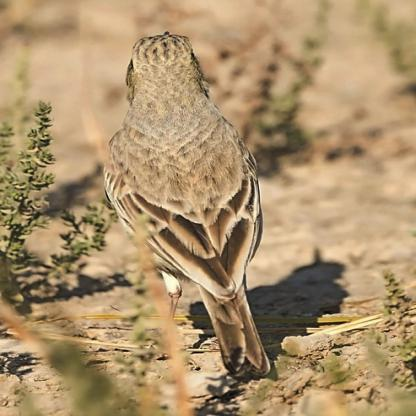Burung: (104, 30, 278, 374)
